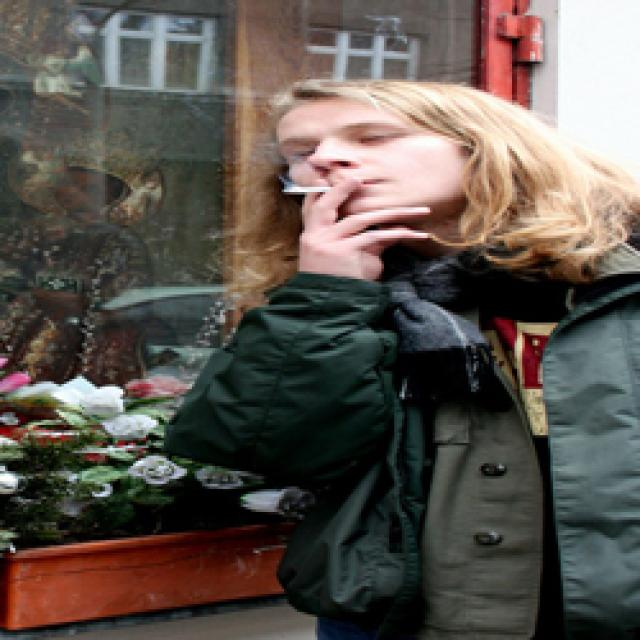Smooking: (279, 178, 325, 200)
